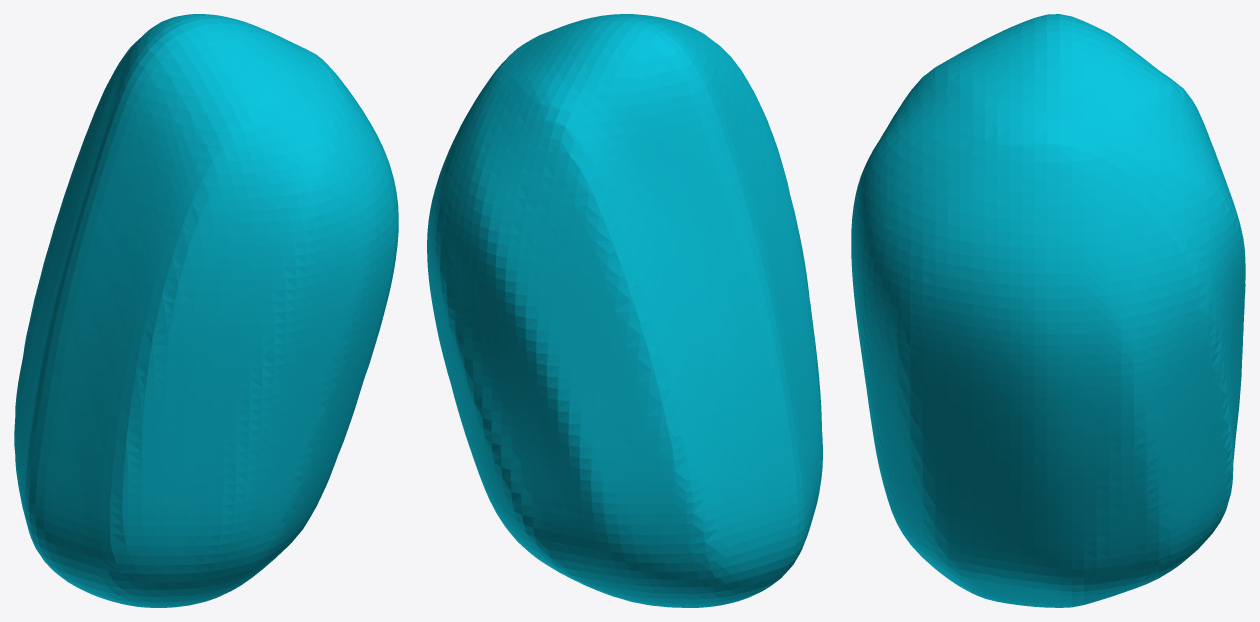
File: hand_part_5.glb
The picture shows the model from 3 angles, left to right: view 1: azimuth 30°, elevation 25°; view 2: azimuth 150°, elevation 25°; view 3: azimuth 270°, elevation 25°; orthographic projection. The views are drawn at different scales.
Bounding box in the file's own units: 0.0195 × 0.0307 × 0.0185.
